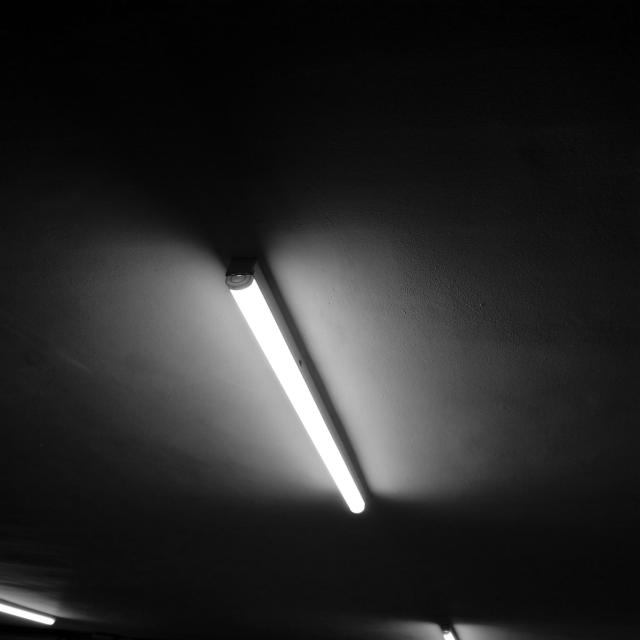light: (224, 259, 367, 514)
